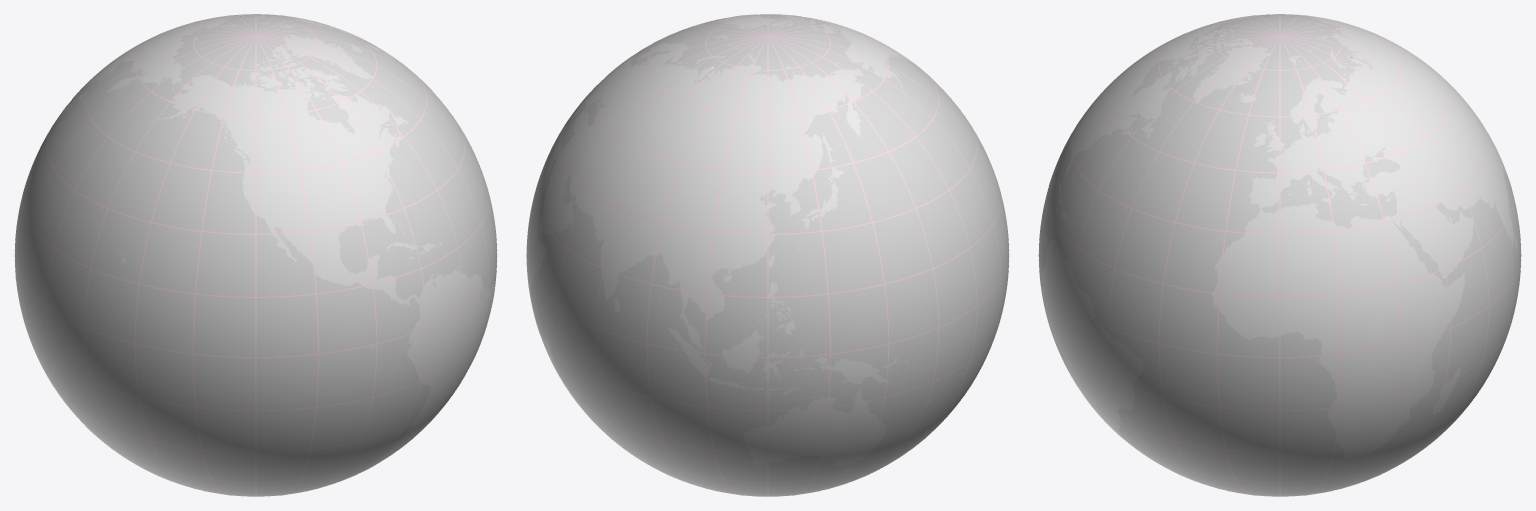
Rendered from globe.glb.
3 views of the same model, side by side, from view 1: azimuth 30°, elevation 25°; view 2: azimuth 150°, elevation 25°; view 3: azimuth 270°, elevation 25° (orthographic).
Visible parts, largest first — view 1: globe; view 2: globe; view 3: globe.
Boxes of the visible parts, x1,y1,x2,y2 form: globe: [14, 14, 497, 496]; globe: [526, 14, 1009, 496]; globe: [1038, 14, 1521, 496].
Bounding box in the file's own units: 200 × 200 × 200.
